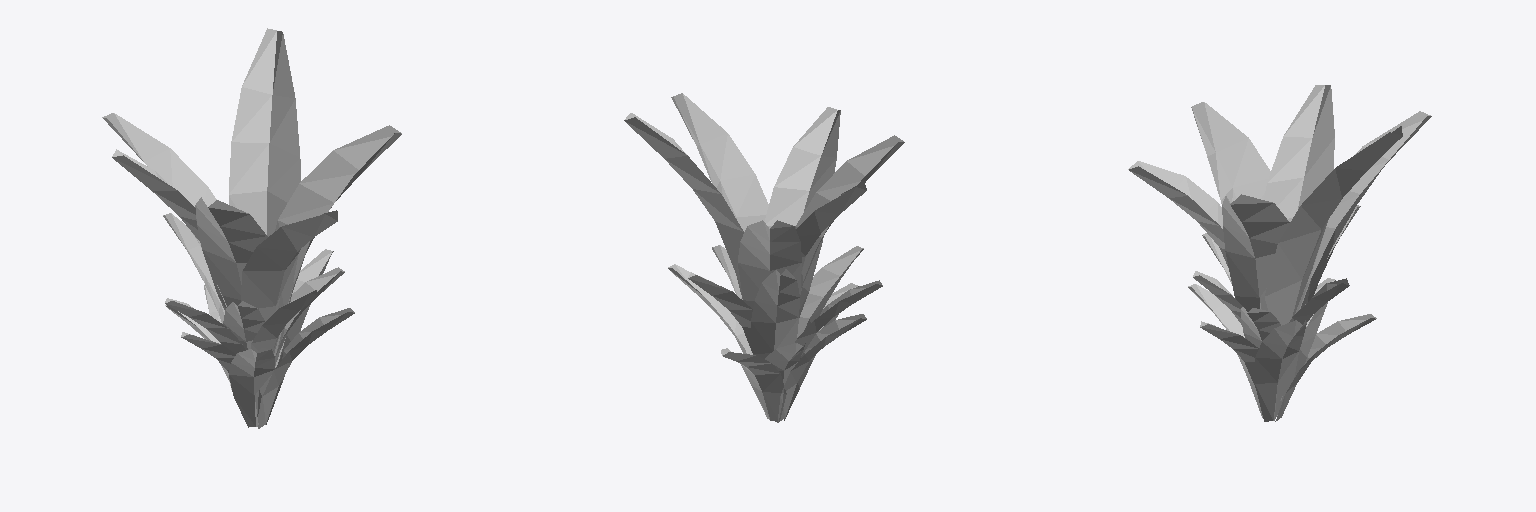
The model's file is Plant_1_Big.obj.
3 renders of one model, left to right at view 1: azimuth 30°, elevation 25°; view 2: azimuth 150°, elevation 25°; view 3: azimuth 270°, elevation 25°, orthographic.
Parts seen in each view (by area): view 1: Plant_1_Big; view 2: Plant_1_Big; view 3: Plant_1_Big.
Part boxes in pixels (x1,y1,x2,y2): Plant_1_Big: (102, 28, 401, 428); Plant_1_Big: (624, 93, 904, 422); Plant_1_Big: (1128, 85, 1431, 421).
Size of the model in its own units: 2.89 by 3.76 by 3.13.